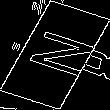N_SE: (14, 26, 96, 84)
